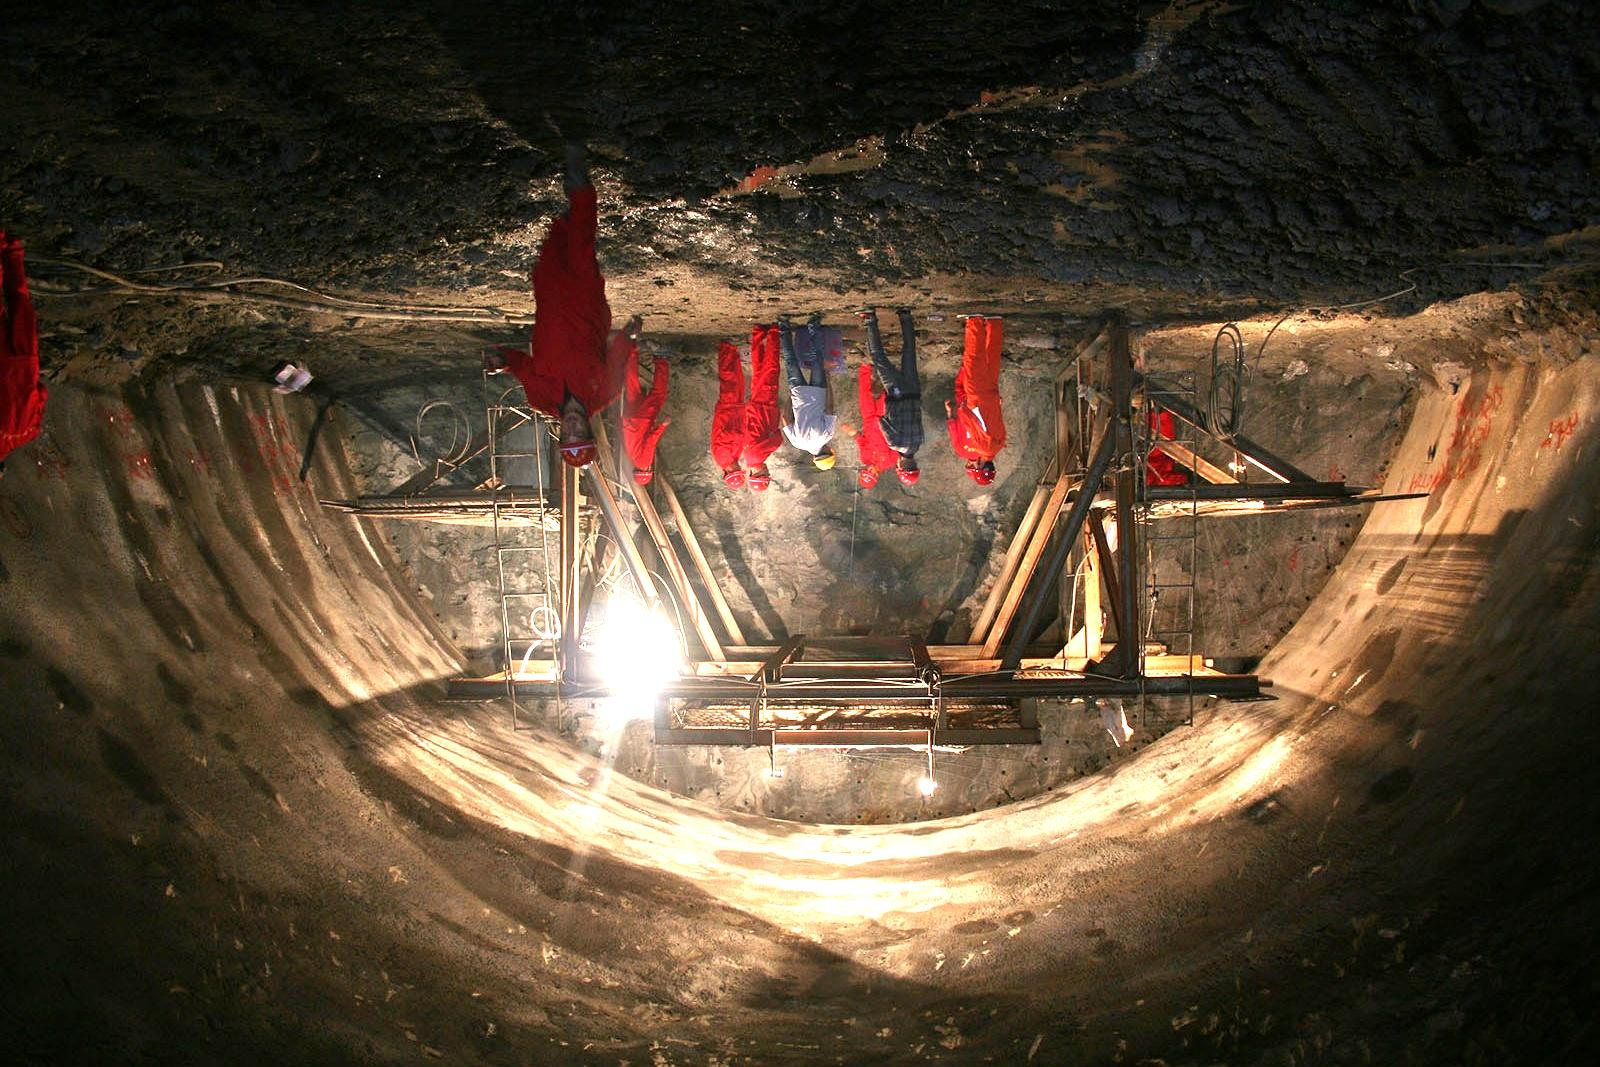helmet: (557, 411, 598, 468), (894, 454, 921, 487), (721, 462, 746, 492), (748, 463, 773, 493), (812, 444, 837, 472), (973, 458, 996, 487), (857, 463, 881, 489), (631, 464, 655, 485), (962, 458, 979, 480)
